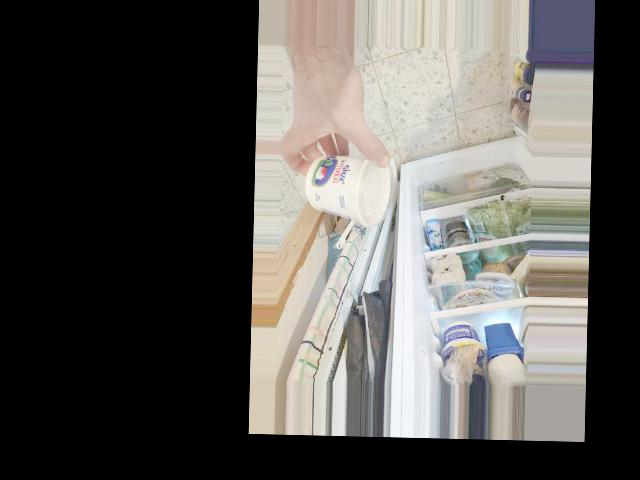cotage: (307, 147, 391, 227)
